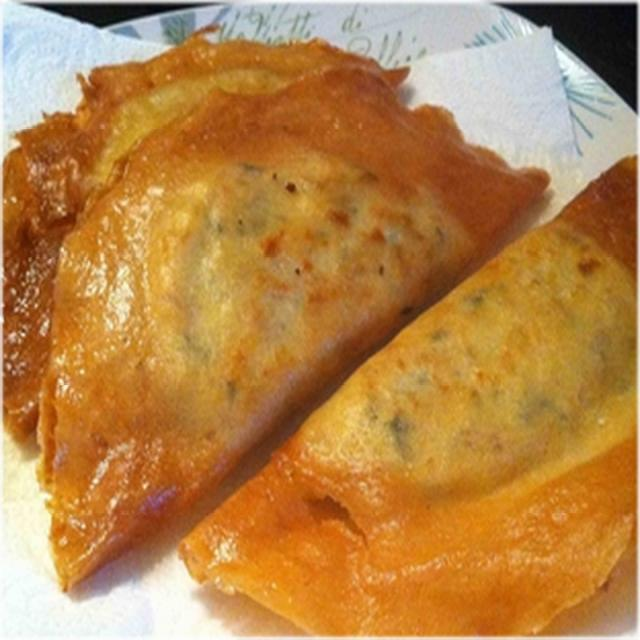brik: (30, 42, 558, 530), (229, 148, 640, 639)
